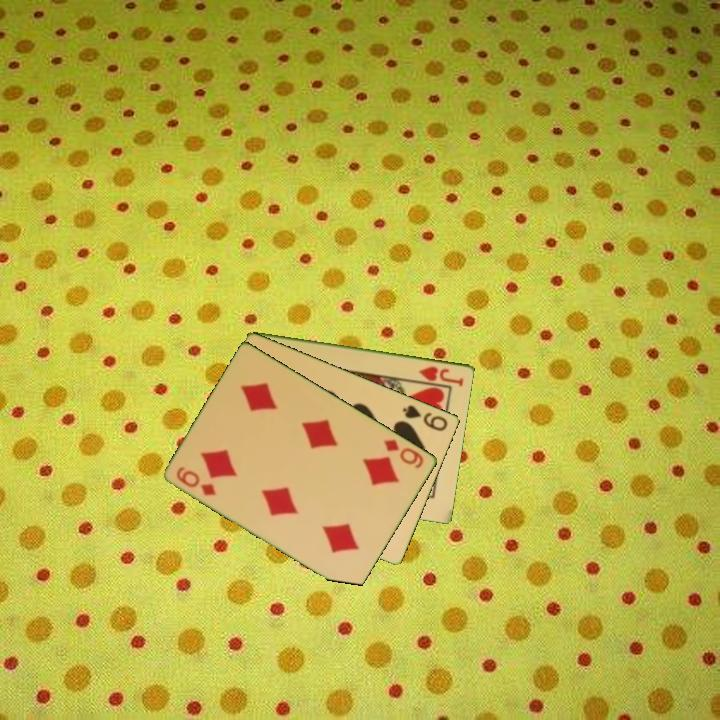6d: (380, 435, 427, 471), (173, 463, 219, 499)
9s: (399, 401, 451, 434)
Jh: (416, 362, 467, 389)
